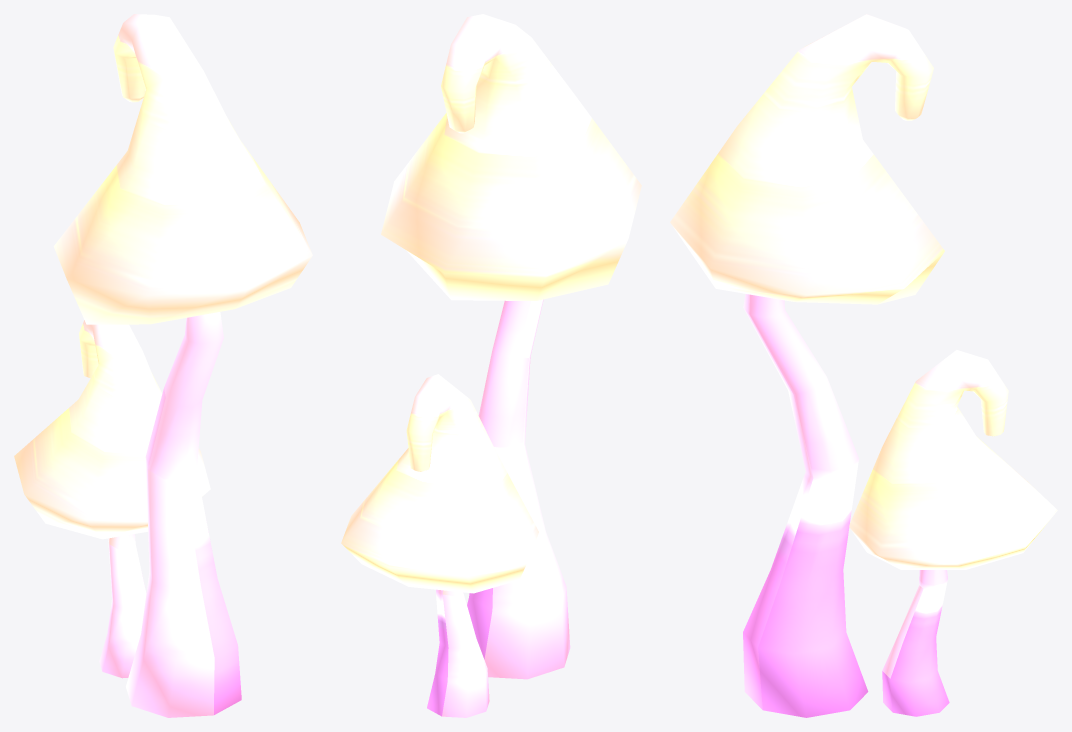
Rendered from grande_peque06.fbx.
3 views of the same model, side by side, from view 1: azimuth 30°, elevation 25°; view 2: azimuth 150°, elevation 25°; view 3: azimuth 270°, elevation 25° (orthographic). The views are drawn at different scales.
Parts seen in each view (by area): view 1: SetaXS06, SetaXS06b; view 2: SetaXS06, SetaXS06b; view 3: SetaXS06, SetaXS06b.
Boxes of the visible parts, x1,y1,x2,y2 form: SetaXS06: (53,14,312,717); SetaXS06b: (14,320,210,678); SetaXS06: (381,14,641,679); SetaXS06b: (341,374,538,717); SetaXS06: (670,14,944,717); SetaXS06b: (849,350,1057,716).
Bounding box in the file's own units: 277 × 772 × 388.
